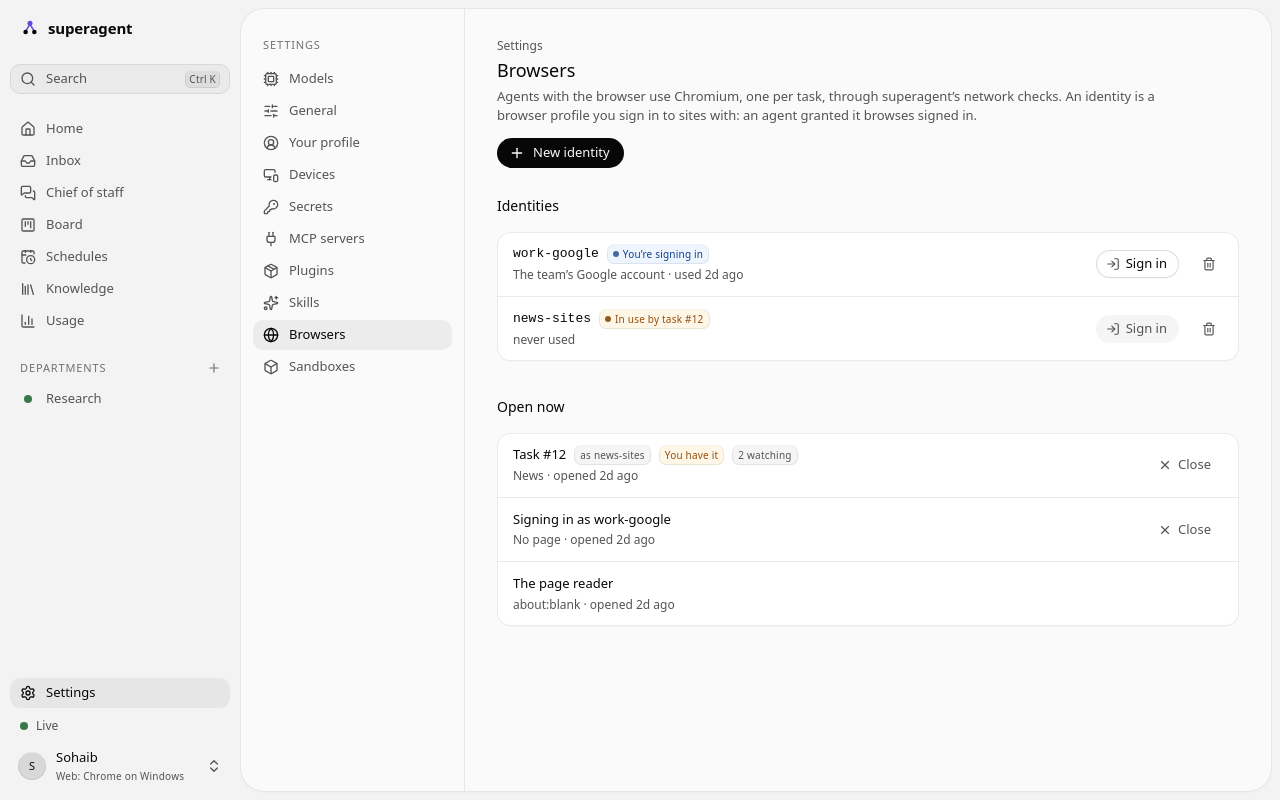
Test: open browsers › lists each with what it is, and closes them
The width and height of the screenshot is (1280, 800).
Expected: the list item that starts with "Task #12" shows "as news-sites", [497,433,1239,498]
Expected: the list item that starts with "Task #12" shows "You have it", [665,448,718,462]
Step 1. Click the button with aria-label "Close task #12’s browser" → (1186, 465), box [1148,451,1223,479]
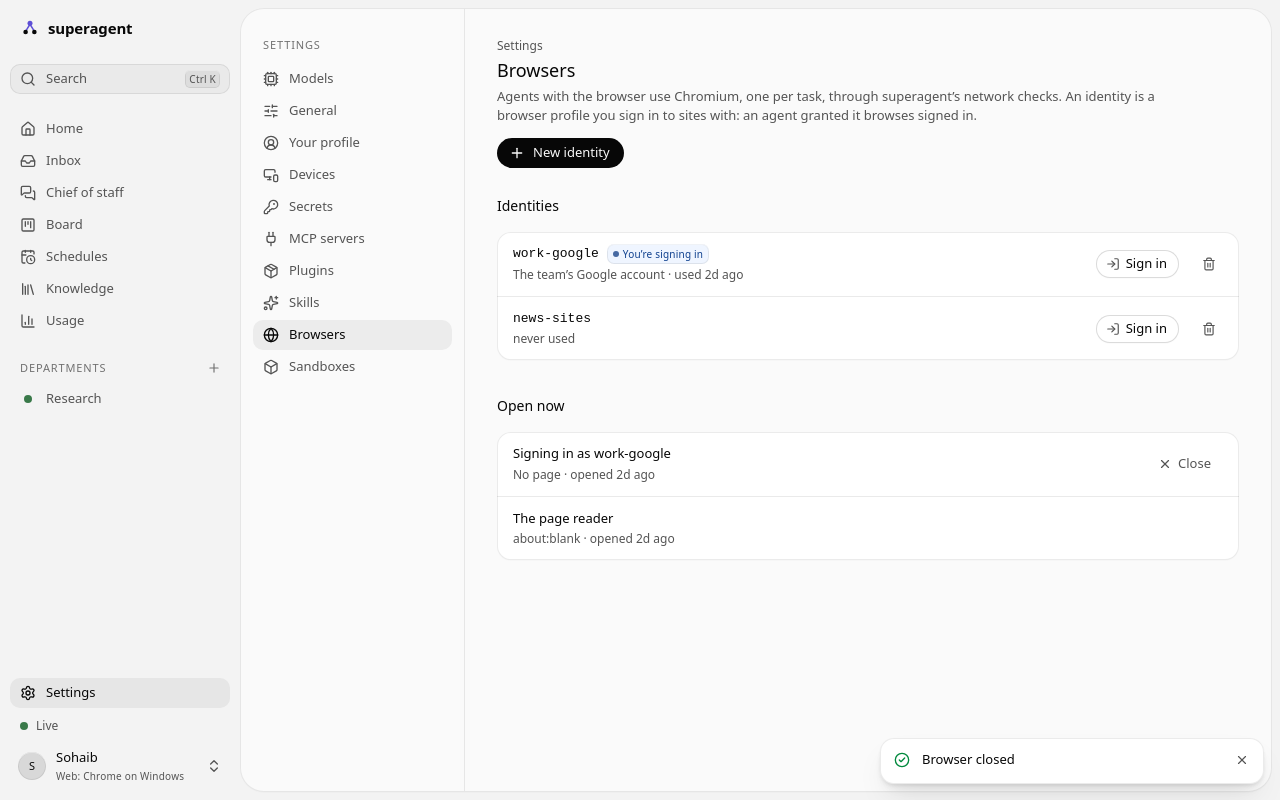
Expected: the heading "Browser closed" is shown, [922,750,1015,768]
Expected: the list named "Identities" no longer shows "In use by task #12", [497,232,1239,360]
Expected: the button with aria-label "Sign in as news-sites" is enabled, [1096,315,1179,343]
Step 2. Click the button with aria-label "Close work-google’s sign-in" → (1186, 464), box [1148,450,1223,478]
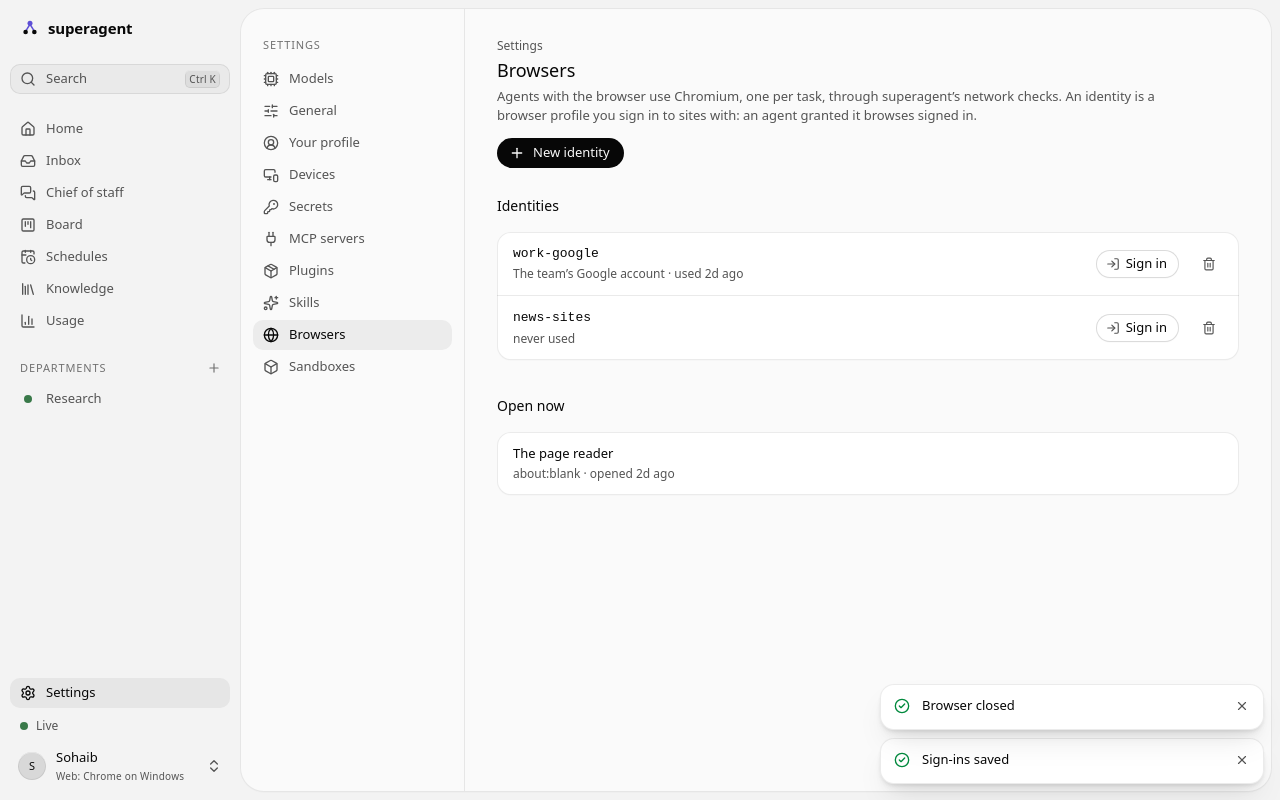
Expected: the heading "Sign-ins saved" is shown, [922,750,1009,768]
